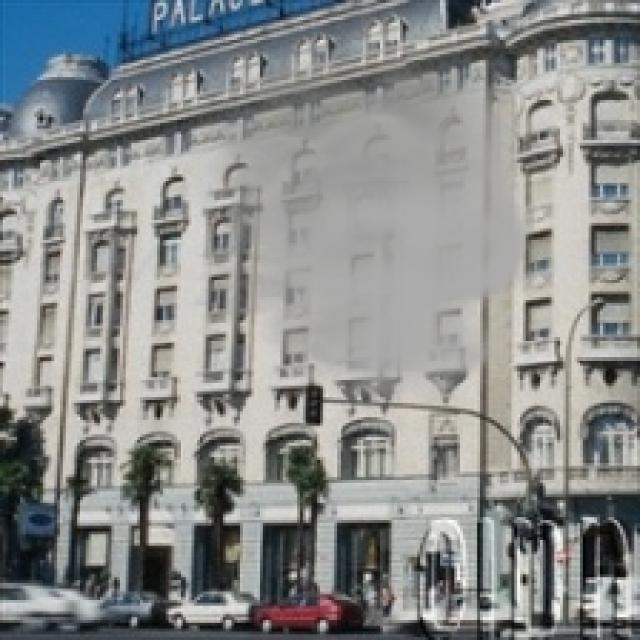smoke: (157, 40, 534, 411)
